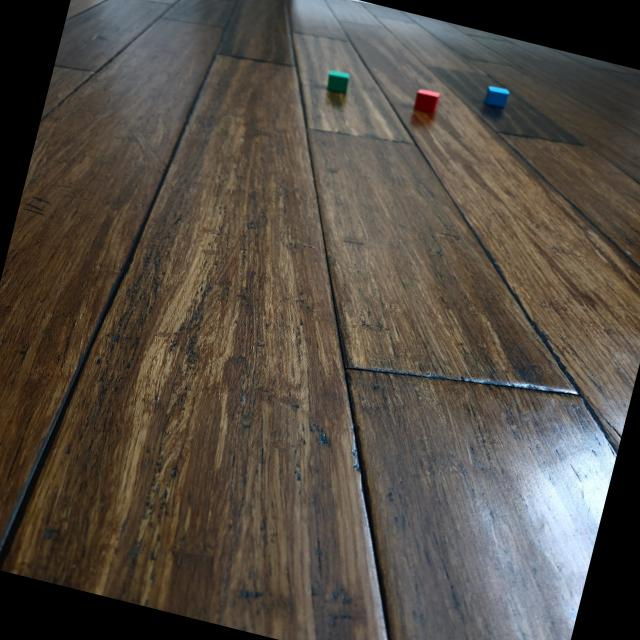bluecube: (482, 84, 510, 112)
green cube: (325, 68, 351, 95)
red cube: (410, 86, 441, 115)
